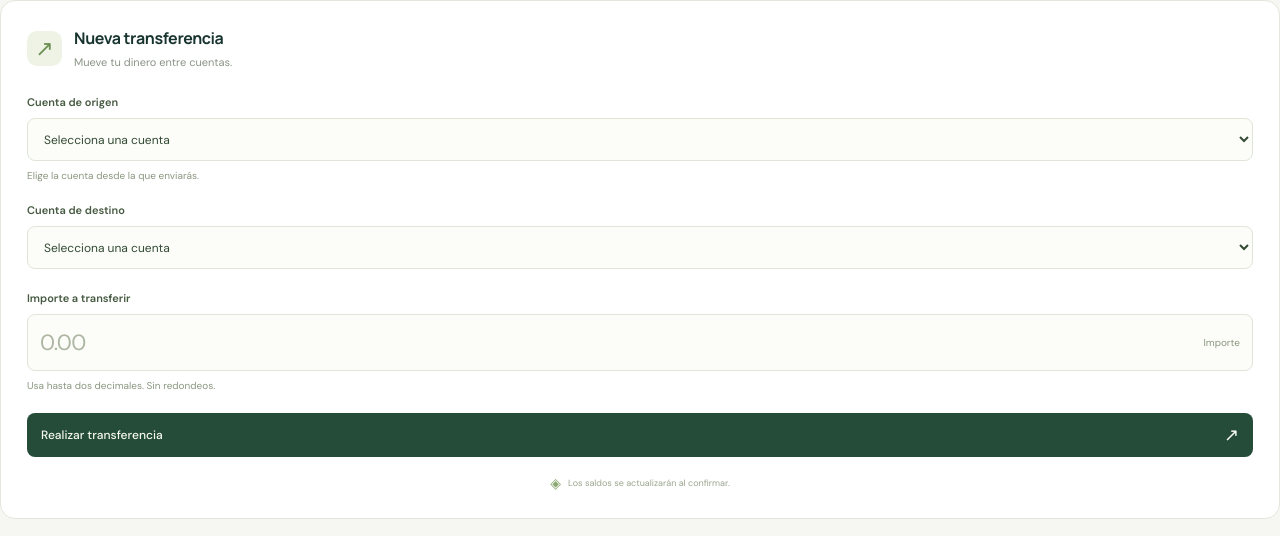
transfer form › blocks duplicate submits and clears a successful amount
Select "TEST-A" in the dropdown labelled "Cuenta de origen" at (640, 140), box [27,118,1253,161]
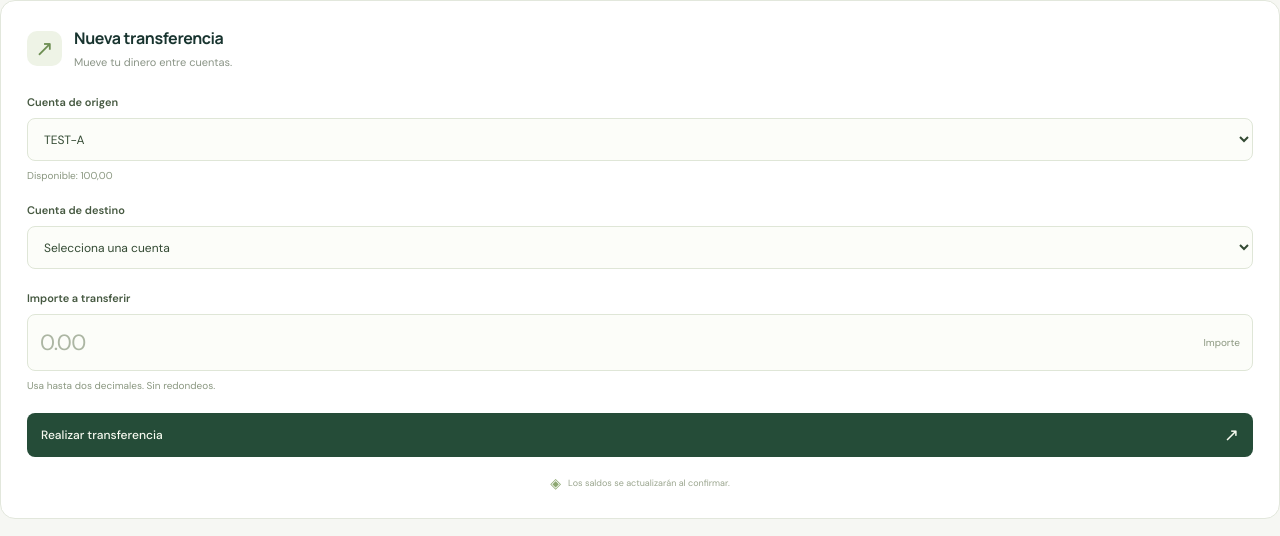
Select "TEST-B" in the dropdown labelled "Cuenta de destino" at (640, 248), box [27,226,1253,269]
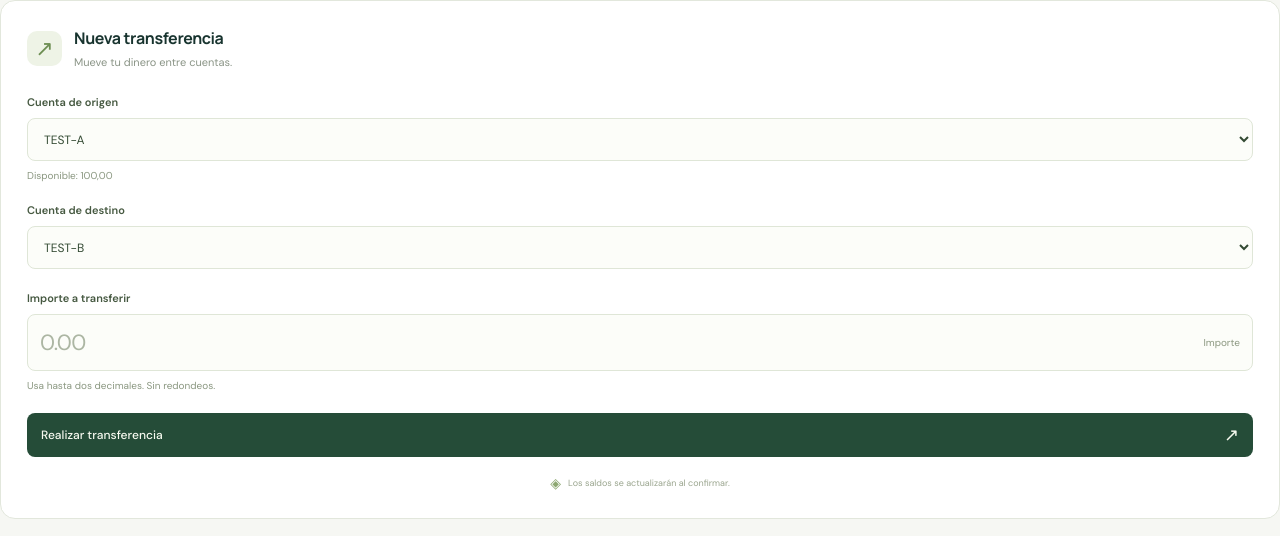
Type "25.10" into the field labelled "Importe a transferir" at (640, 342), box [27,314,1253,371]
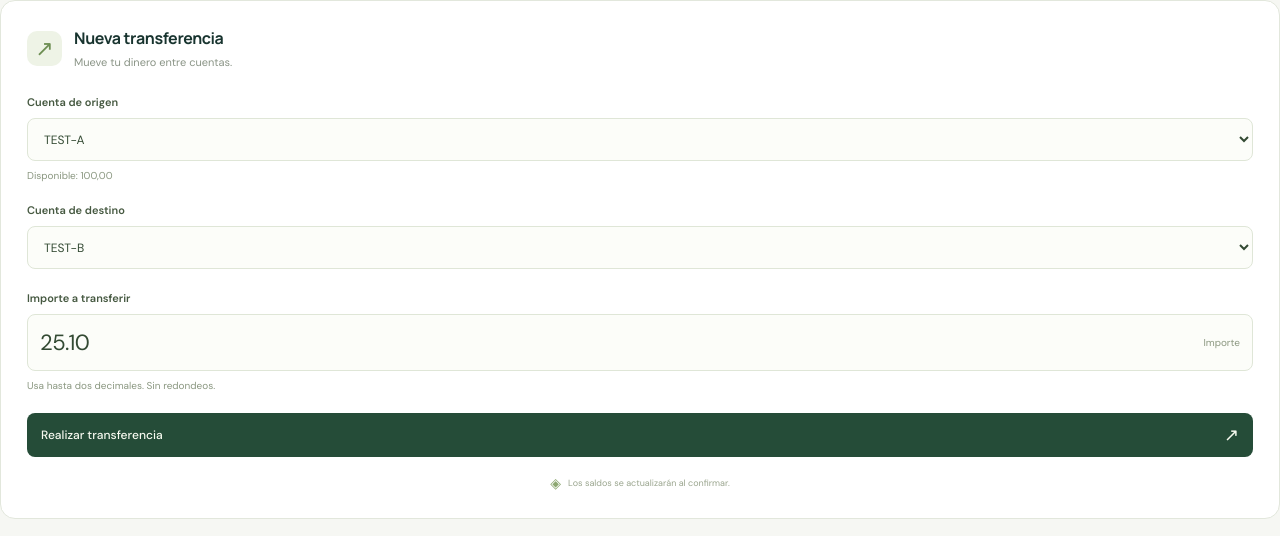
Click the button "Realizar transferencia ↗" at (102, 435), box [27,413,1253,457]
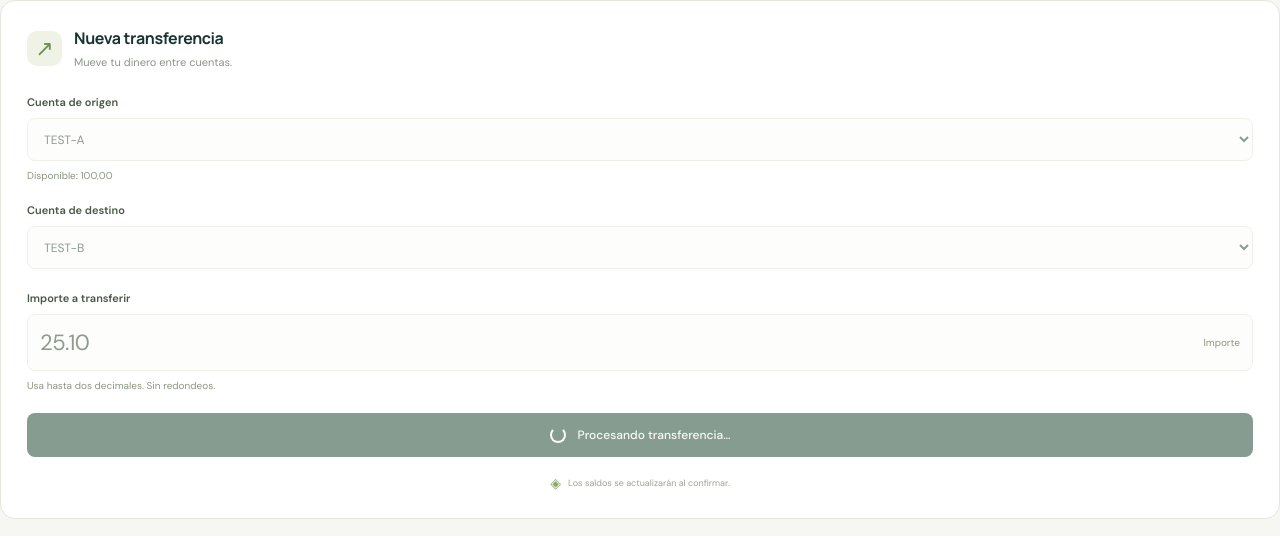
Click the button named "Realizar transferencia" at (640, 435), box [27,413,1253,457]
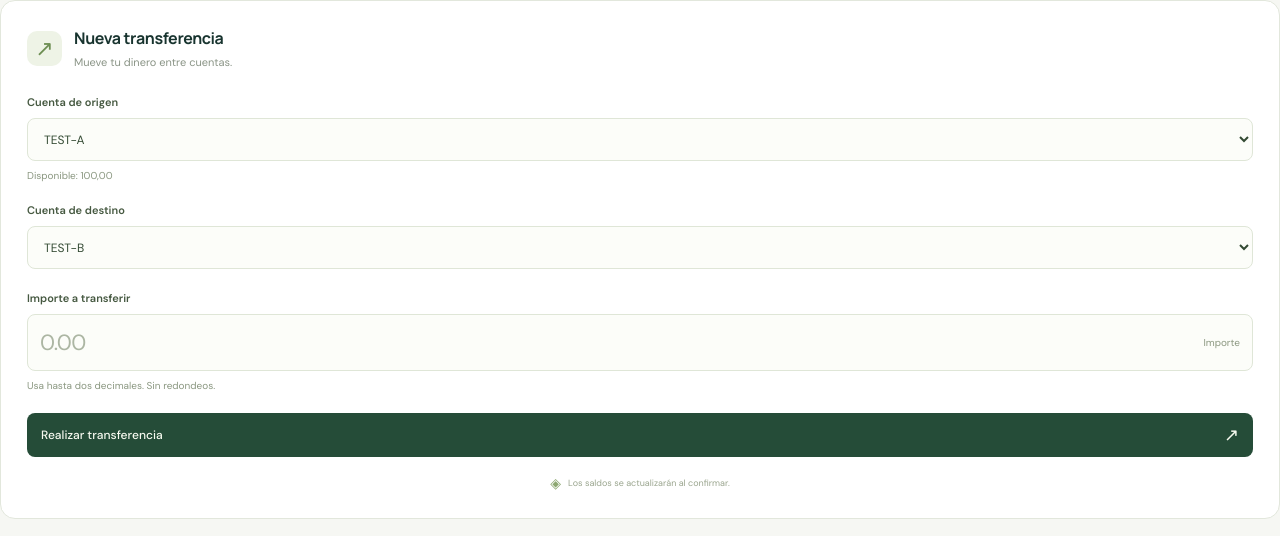
Now the field labelled "Importe a transferir" is empty, box [27,314,1253,371]
